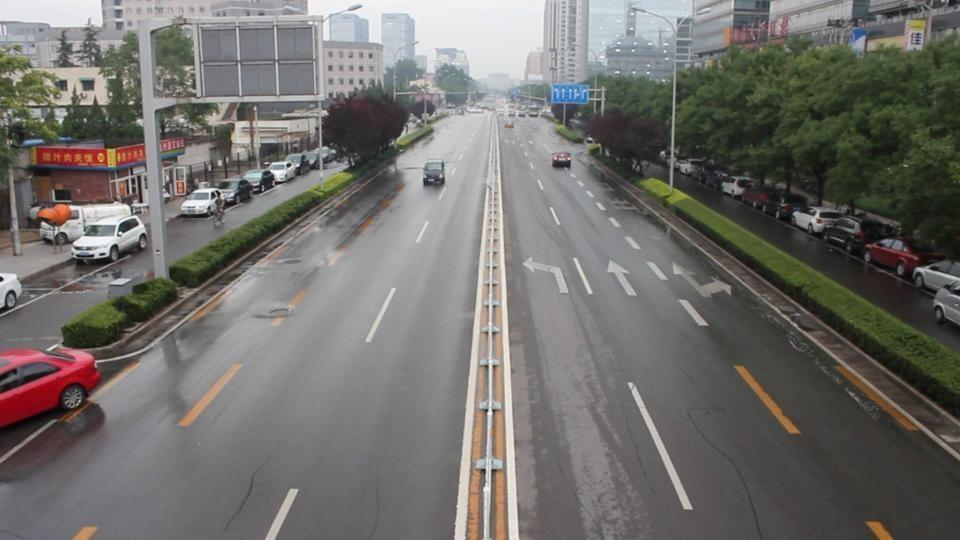car: (0, 343, 104, 429), (67, 215, 149, 265), (862, 237, 948, 282), (822, 213, 902, 261), (37, 205, 86, 246), (912, 259, 960, 294), (792, 206, 846, 236), (180, 188, 225, 218), (932, 281, 960, 329), (764, 193, 806, 223), (211, 178, 253, 206), (28, 200, 75, 225), (0, 273, 24, 312), (241, 169, 277, 194), (740, 186, 773, 211), (266, 160, 297, 183), (721, 177, 753, 199), (422, 160, 446, 186), (551, 151, 572, 168), (504, 119, 514, 129)
